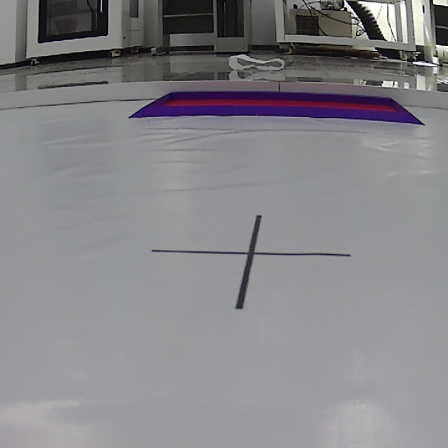red_aim: (128, 85, 423, 129)
